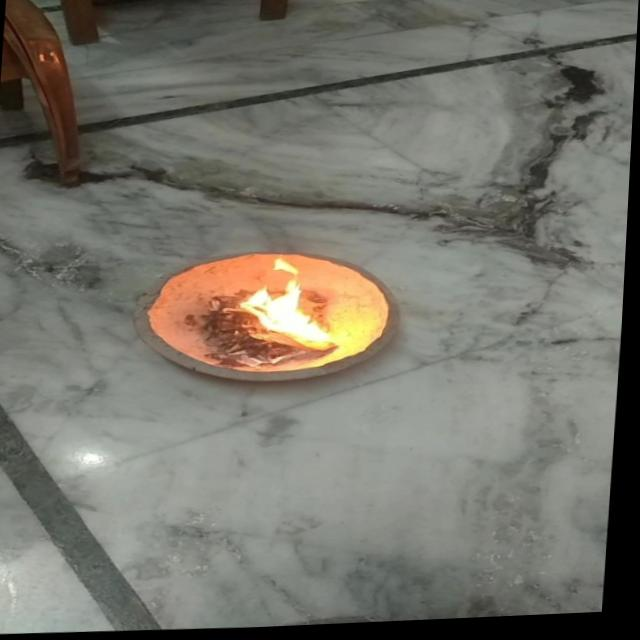fire: (232, 259, 342, 359)
